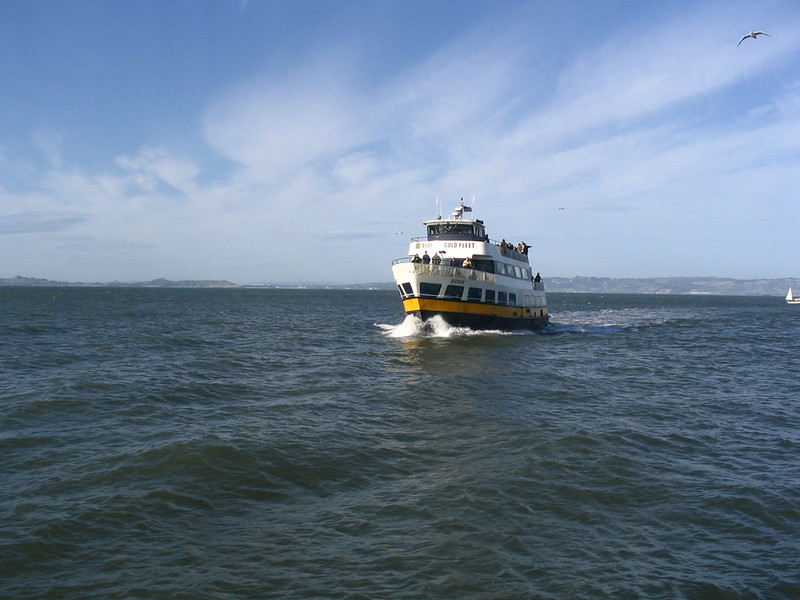boat: (380, 186, 569, 339)
